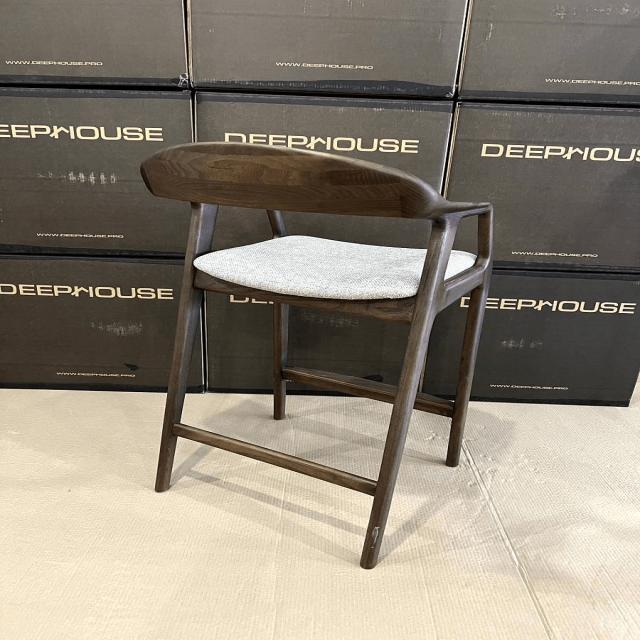chair: (144, 132, 506, 570), (158, 121, 522, 322)
